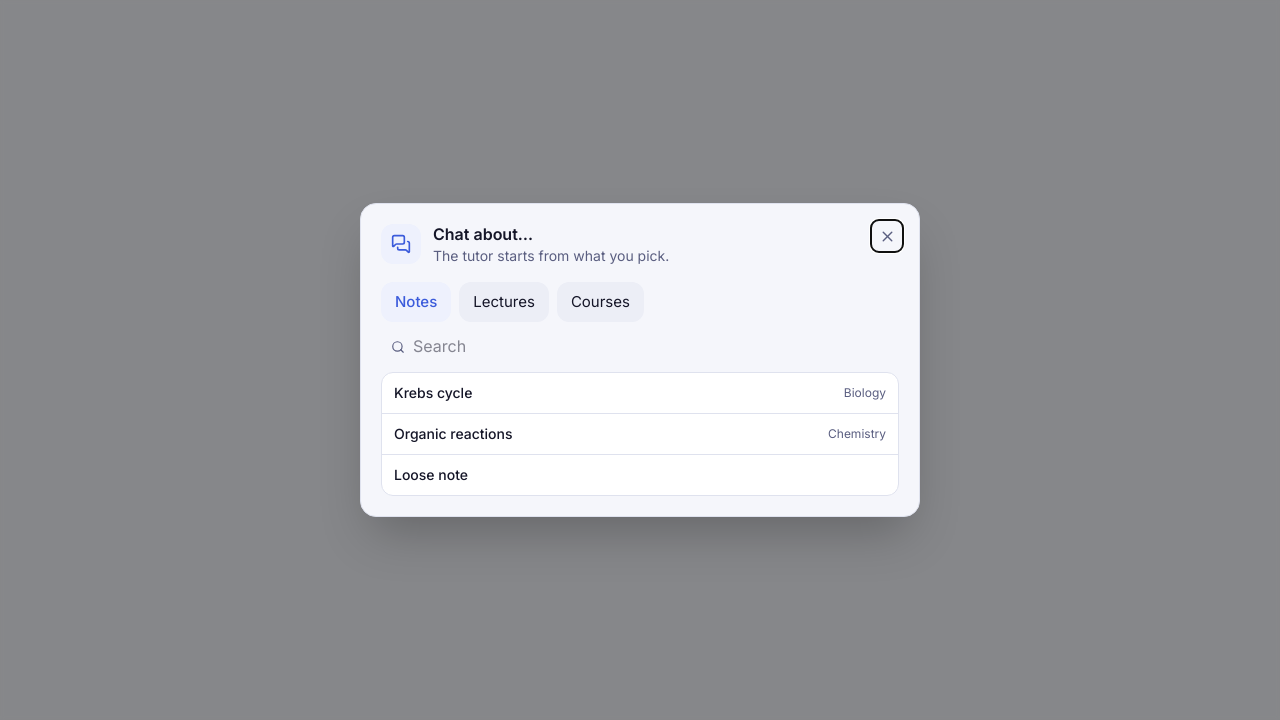
Test case: TutorPickDialog › searches the list, and says when nothing matches
Type "KREBS" into the search field named "Search notes". click: (514, 347)
box: 381,334 -> 647,360
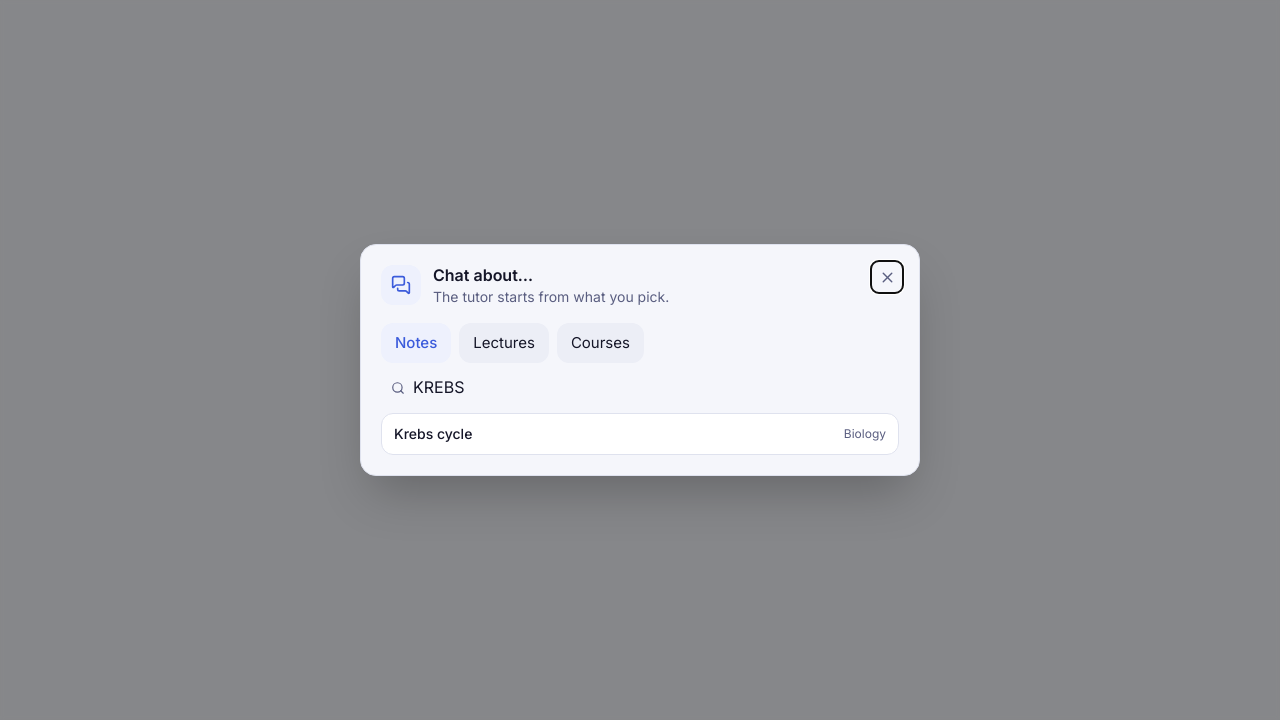
Replace the text in the search field named "Search notes" with "zzz". click: (514, 388)
box: 381,375 -> 647,401
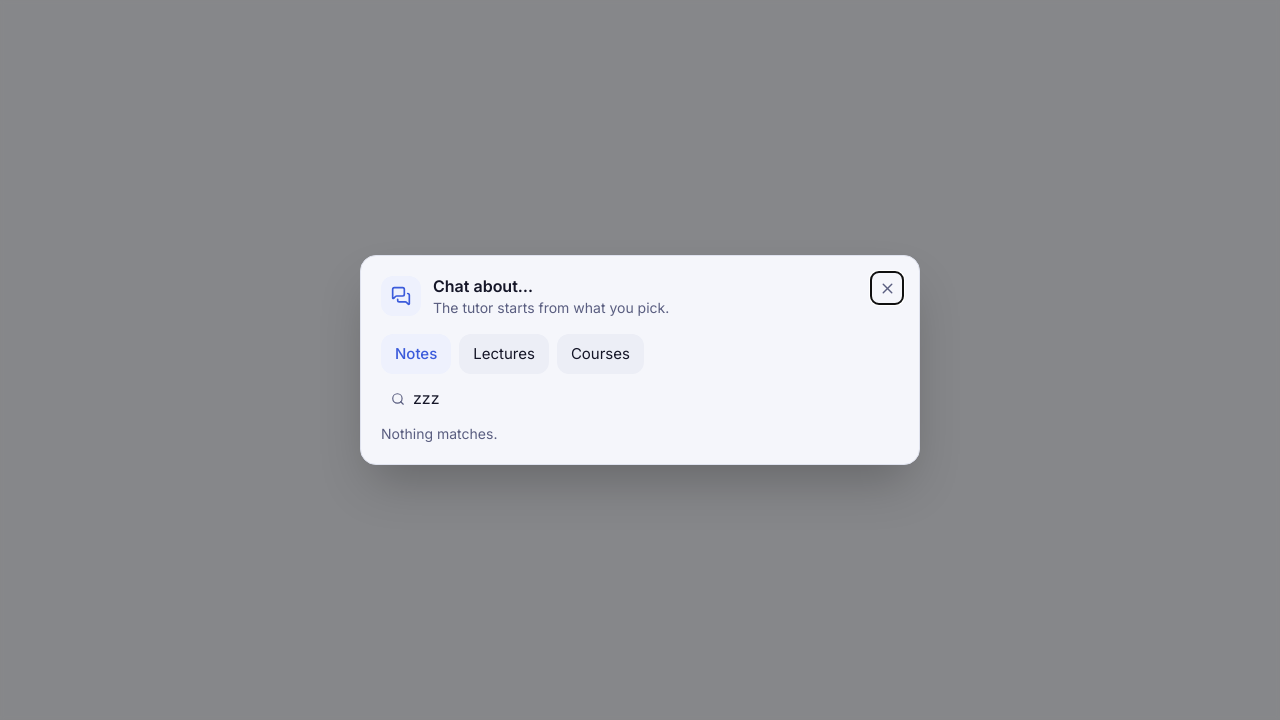
Expected: the text "Nothing matches." is shown, 381,425 -> 497,442
